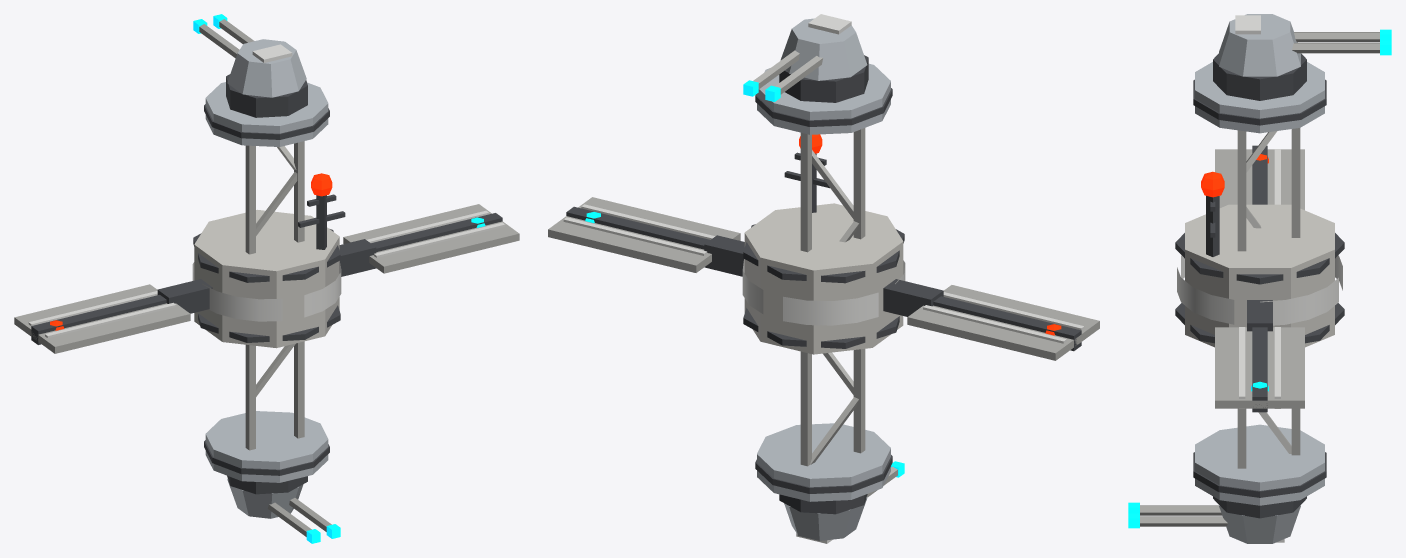
Rendered from light_a.glb.
3 views of the same model, side by side, from view 1: azimuth 30°, elevation 25°; view 2: azimuth 150°, elevation 25°; view 3: azimuth 270°, elevation 25° (orthographic). The views are drawn at different scales.
Parts seen in each view (by area): view 1: light_a, Turret_0, Turret_1; view 2: light_a, Turret_0, Turret_1; view 3: light_a, Turret_0, Turret_1.
Part boxes in pixels (box(x1,y1,x2,y2)): light_a: box(14, 82, 519, 482); Turret_0: box(193, 14, 307, 117); Turret_1: box(227, 475, 340, 543); light_a: box(548, 63, 1099, 501); Turret_0: box(743, 14, 868, 102); Turret_1: box(779, 461, 904, 543); light_a: box(1175, 62, 1344, 505); Turret_0: box(1213, 14, 1391, 100); Turret_1: box(1128, 496, 1306, 543).
Bounding box in the file's own units: 1.98 × 1.88 × 0.8766.
